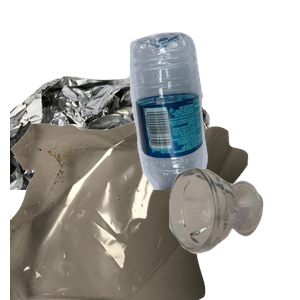glass: (166, 165, 300, 300)
metal: (10, 73, 212, 253)
plastic: (127, 29, 300, 209)
trash: (10, 120, 250, 300)
